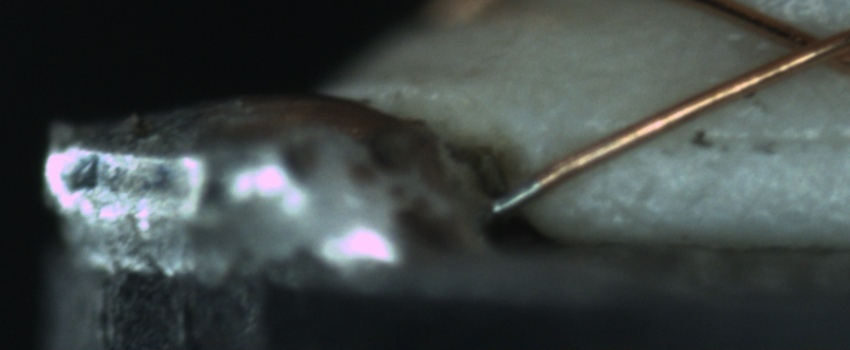CL: (760, 12, 848, 78)
DL: (628, 106, 850, 174)
TS: (487, 178, 542, 216)
